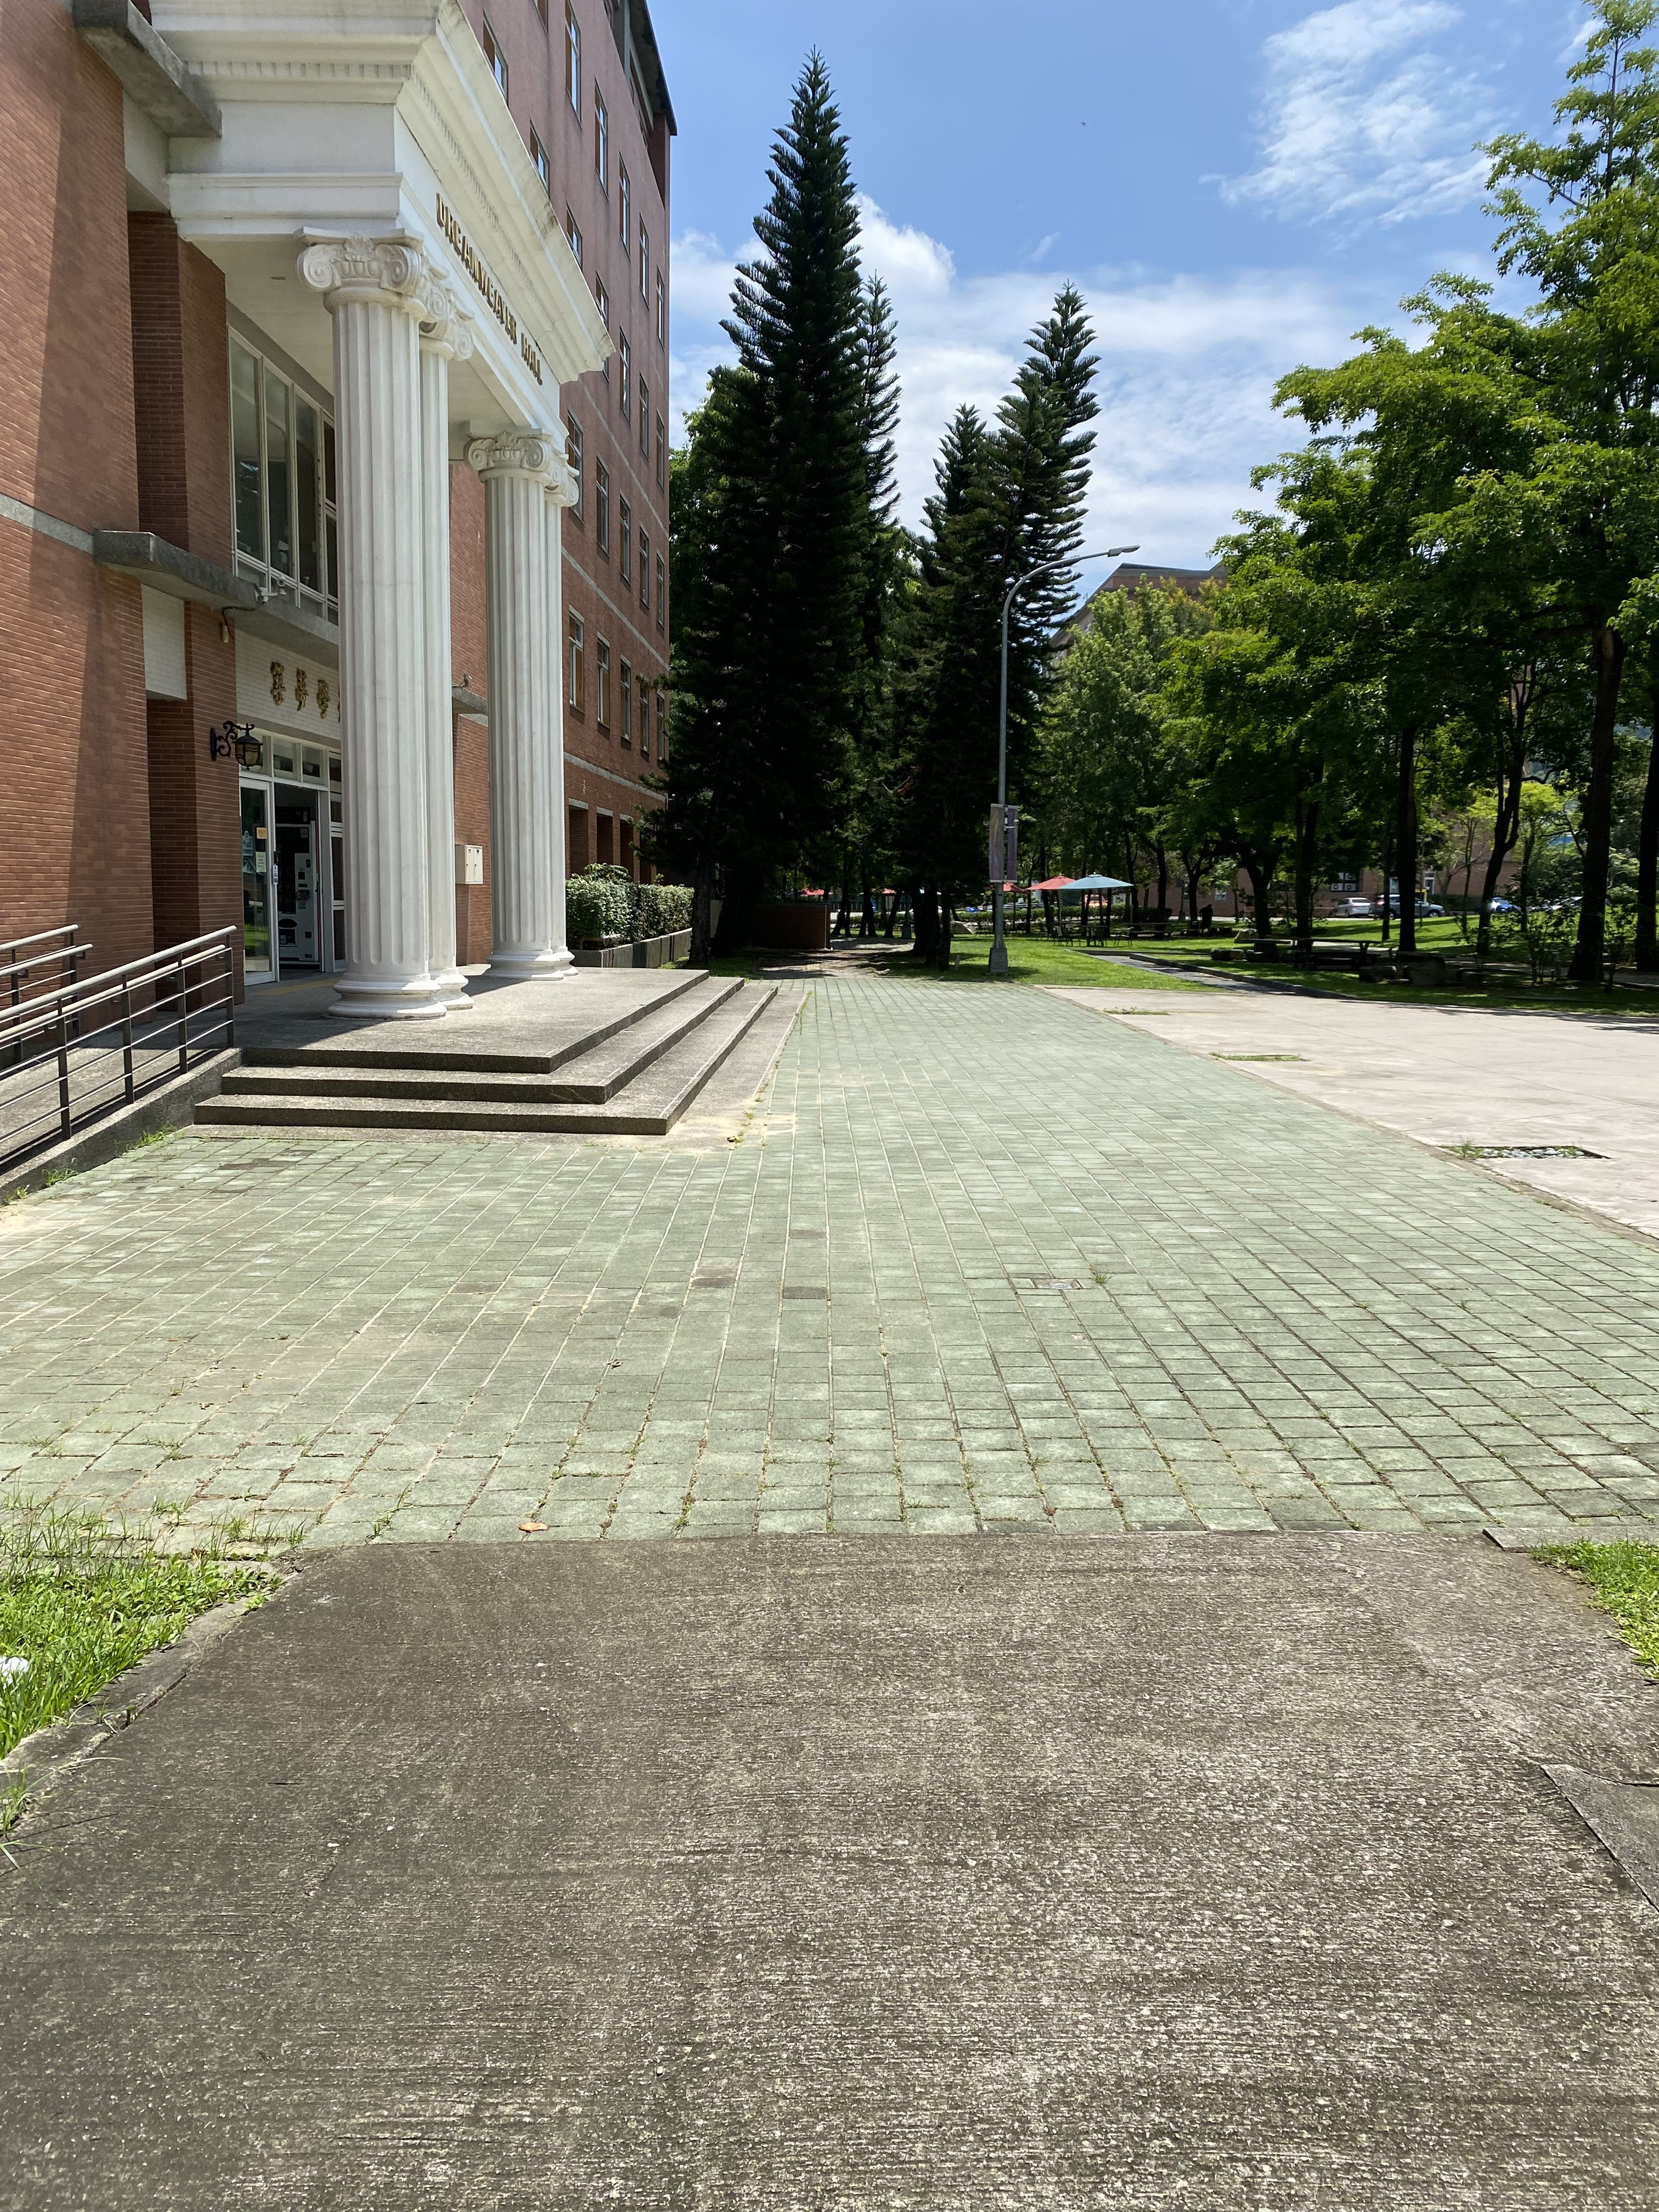0: (0, 1106, 678, 2212)
sidewalk: (537, 862, 1659, 2212)
